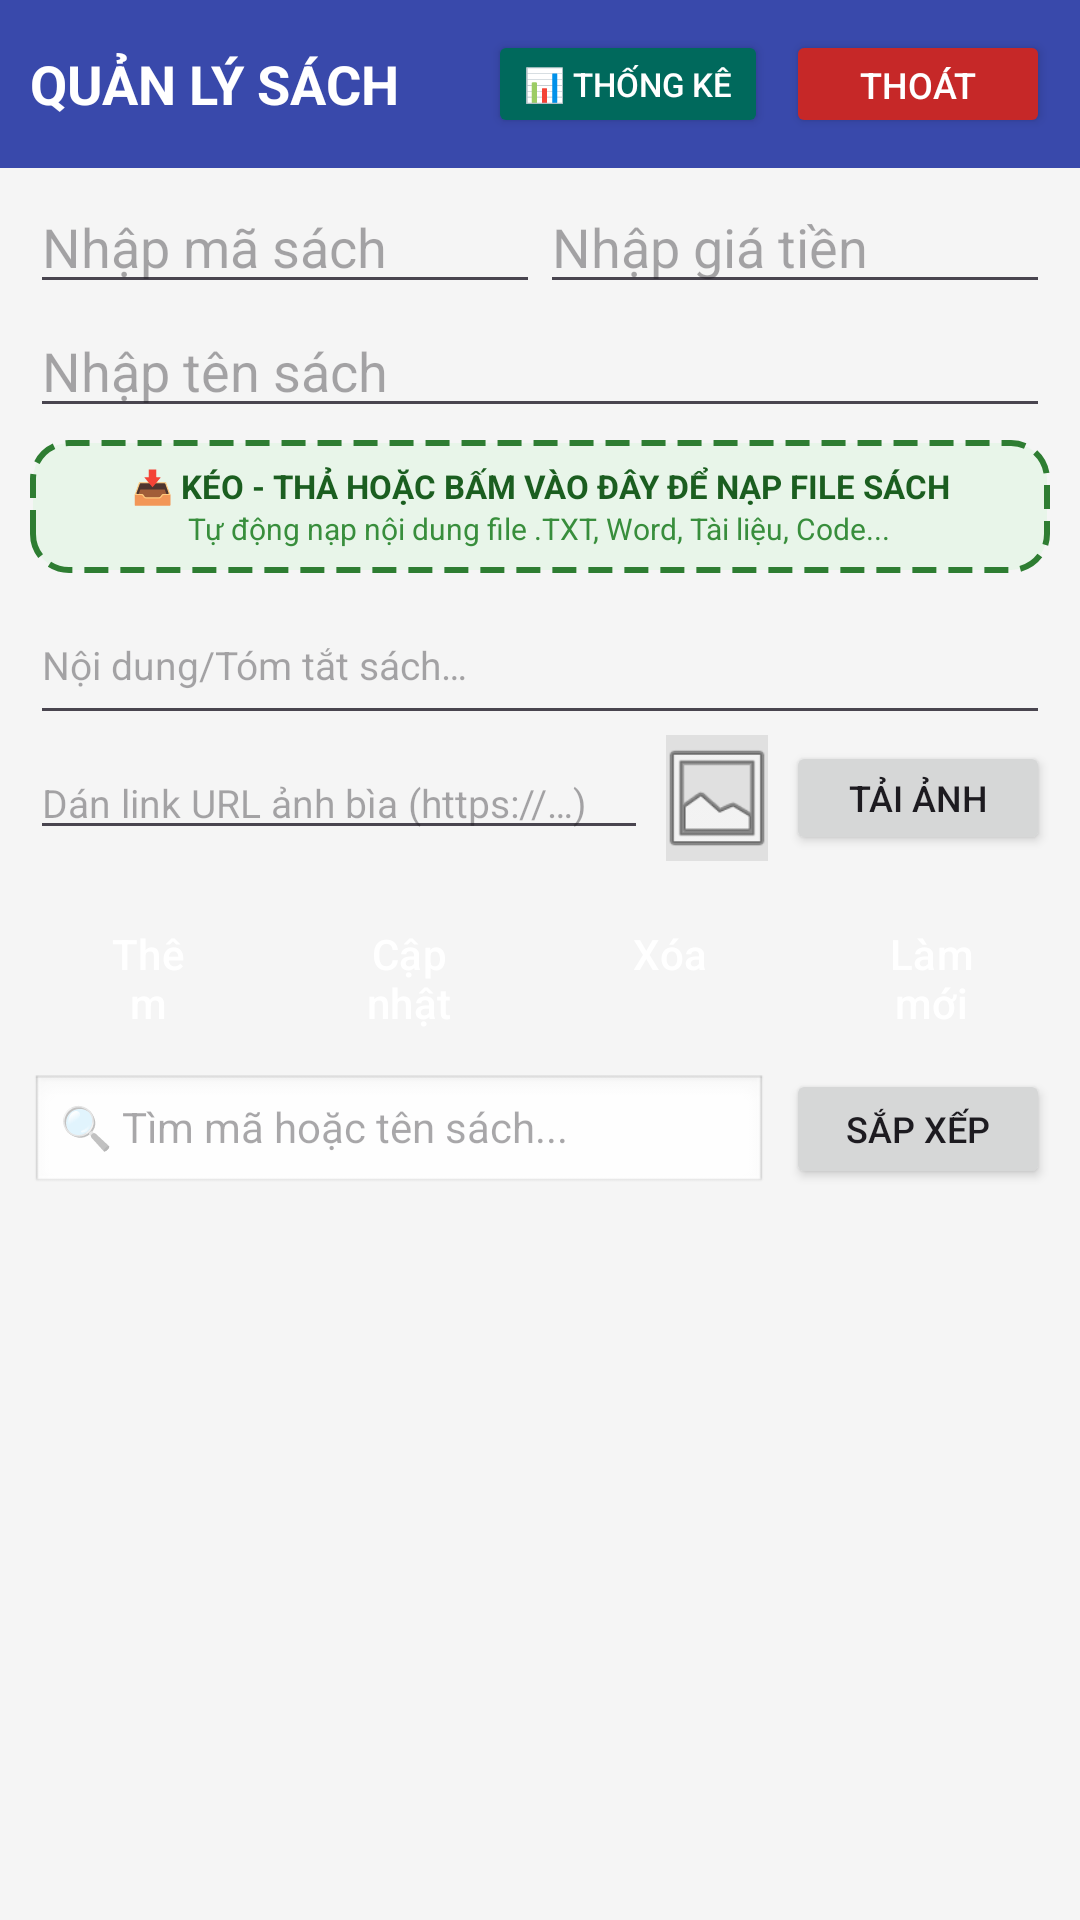

Icons on this 1080px×1920px Android screen, each with its box as (x1, y1, x2, y2):
gallery: (666, 735, 768, 861)
